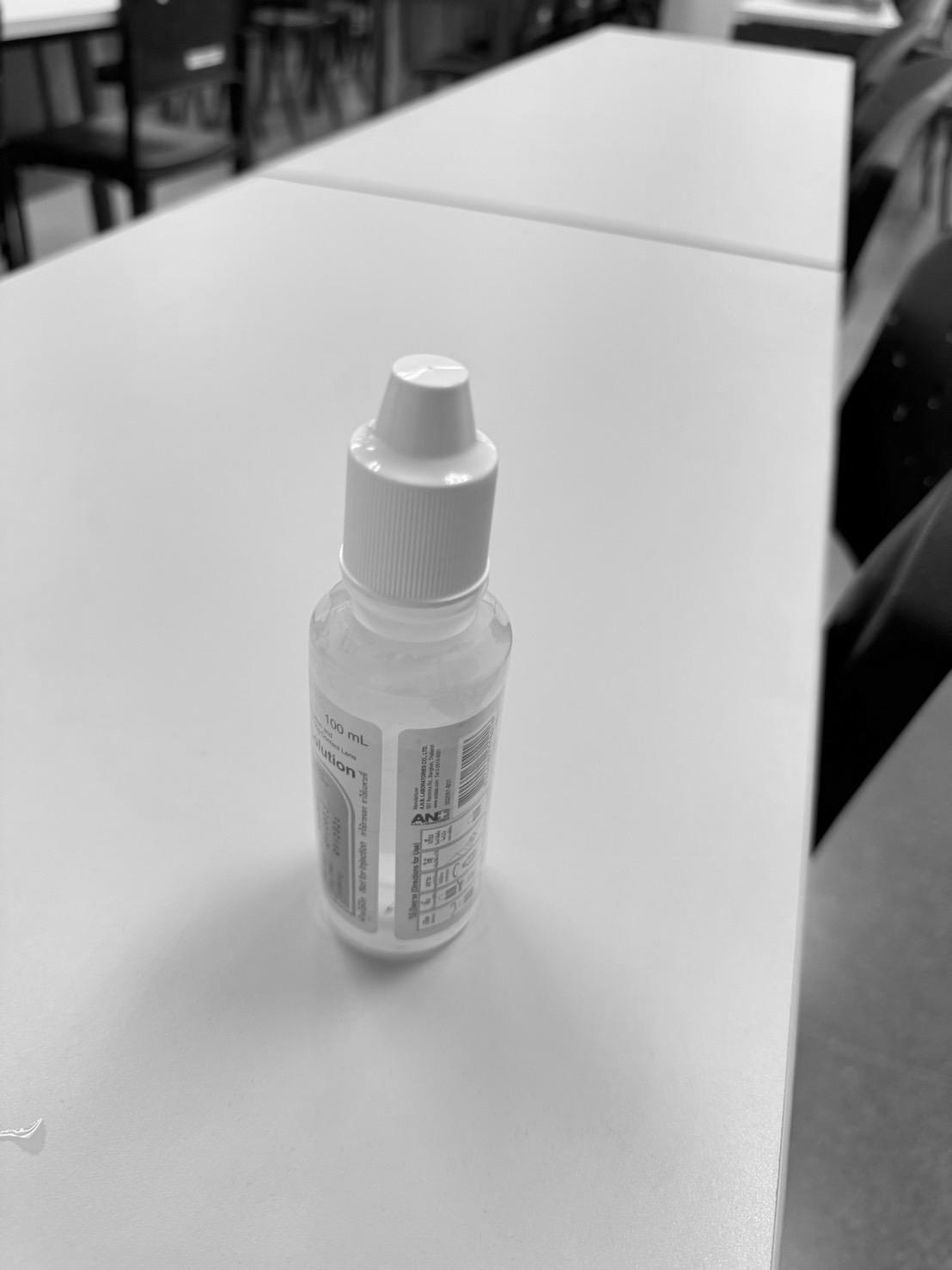bottle: (310, 354, 512, 957)
